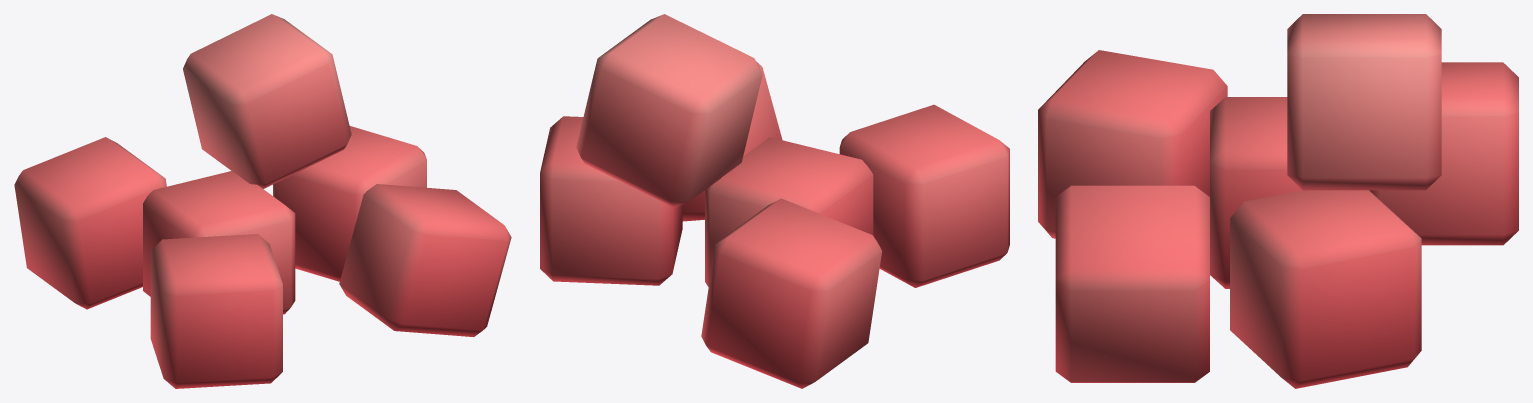
Rendered from food_ingredient_steak_pieces.obj.
3 renders of one model, left to right at view 1: azimuth 30°, elevation 25°; view 2: azimuth 150°, elevation 25°; view 3: azimuth 270°, elevation 25°, orthographic. The views are drawn at different scales.
Parts seen in each view (by area): view 1: food_ingredient_steak_pieces_Cube.030; view 2: food_ingredient_steak_pieces_Cube.030; view 3: food_ingredient_steak_pieces_Cube.030.
Part boxes in pixels (x1,y1,x2,y2): food_ingredient_steak_pieces_Cube.030: [14, 14, 511, 388]; food_ingredient_steak_pieces_Cube.030: [540, 14, 1009, 388]; food_ingredient_steak_pieces_Cube.030: [1038, 14, 1518, 388].
Size of the model in its own units: 0.647 by 0.4348 by 0.6228.
1 material, 1 textured.
